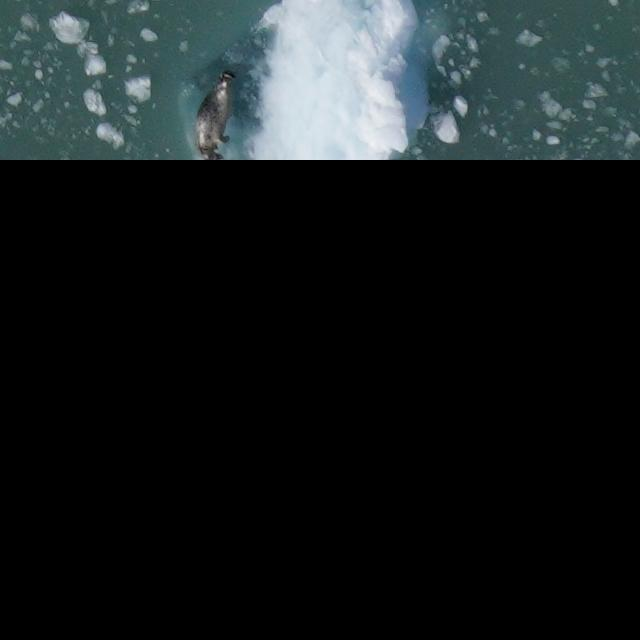seal: (191, 68, 239, 159)
